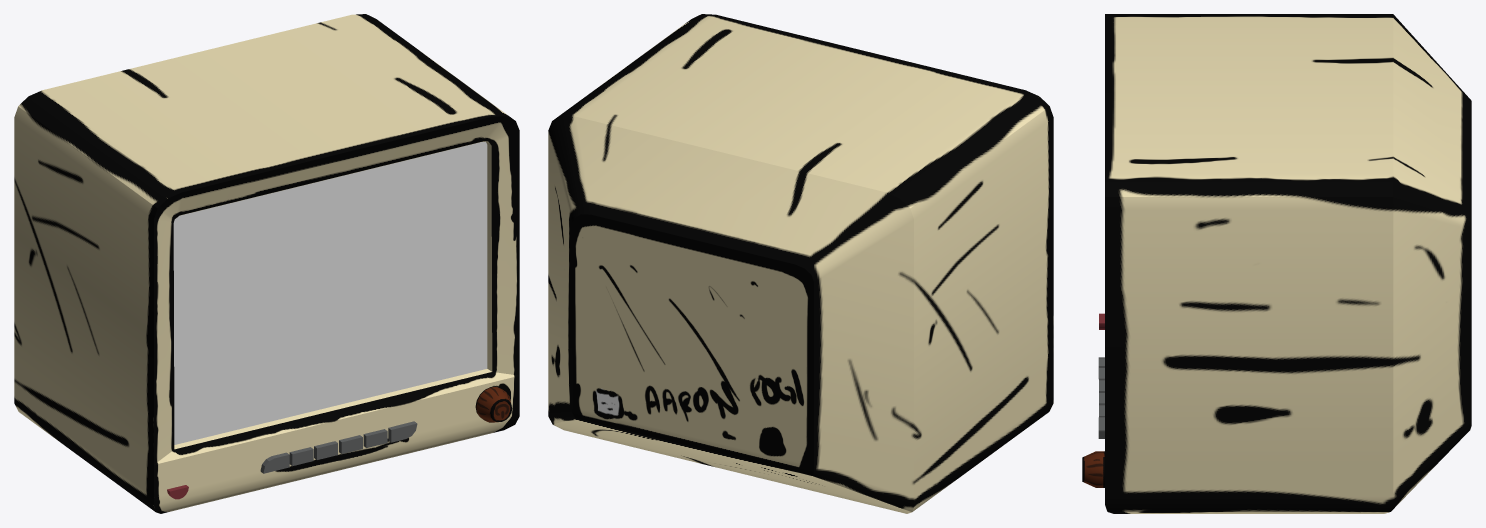
File: SM_Monitor.fbx
3 views of the same model, side by side, from view 1: azimuth 30°, elevation 25°; view 2: azimuth 150°, elevation 25°; view 3: azimuth 270°, elevation 25° (orthographic). The views are drawn at different scales.
Parts seen in each view (by area): view 1: SM_Monitor; view 2: SM_Monitor; view 3: SM_Monitor.
Part boxes in pixels (x1=…): SM_Monitor: x1=14, y1=14, x2=519, y2=513; SM_Monitor: x1=548, y1=14, x2=1053, y2=513; SM_Monitor: x1=1082, y1=14, x2=1471, y2=513.
Bounding box in the file's own units: 103 × 89.1 × 92.4.
